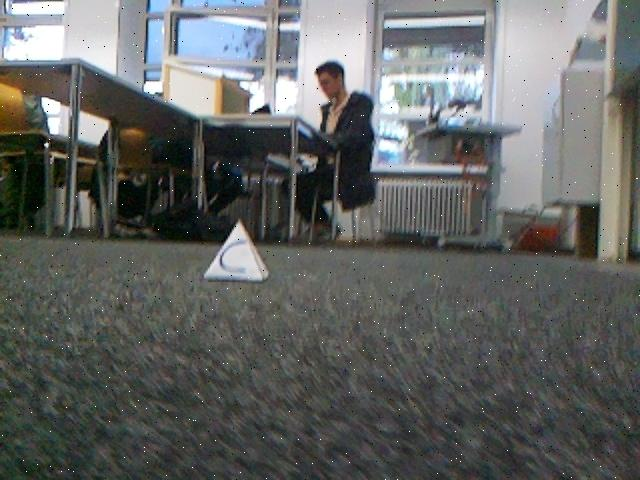C: (205, 220, 270, 284)
